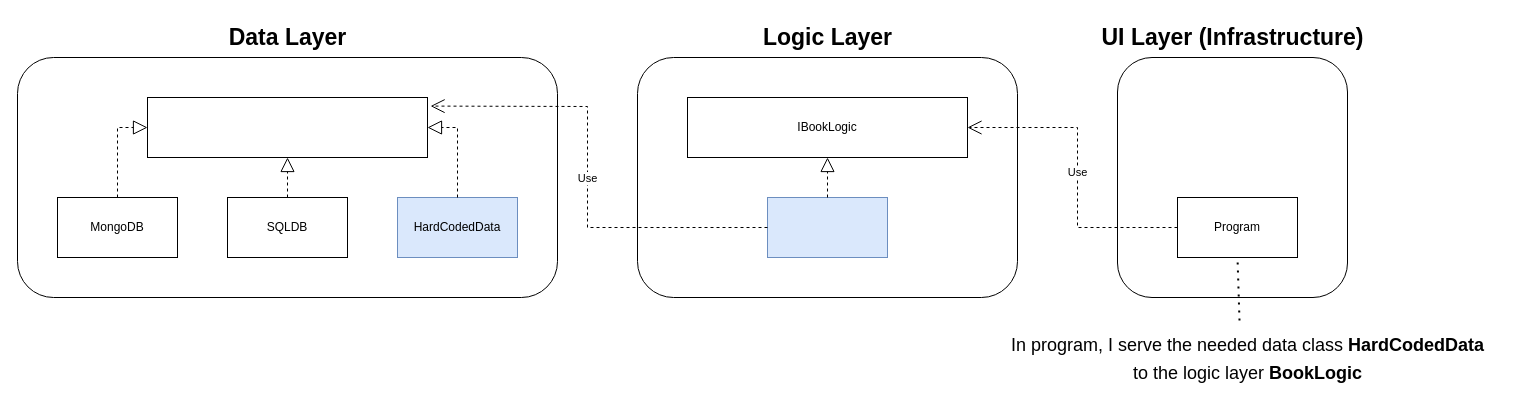
The diagram is 1515 pixels wide and 409 high, and some of its shapes have lost their labels. The centre of each missing label's shape, as x and y in pixels:
BookLogic: the point at 827,227
IData: the point at 287,127
